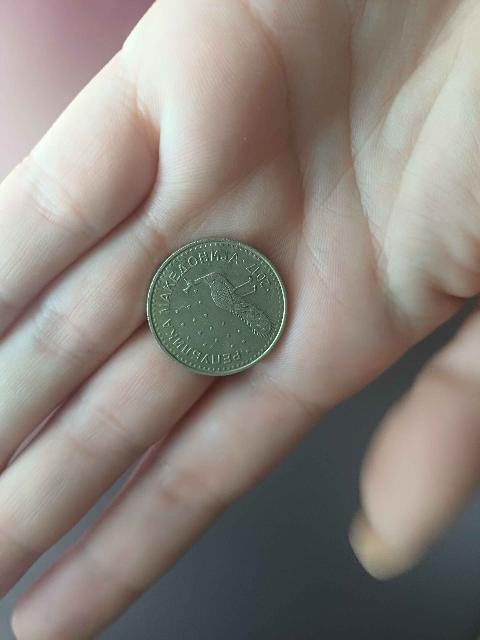10_coin: (147, 239, 286, 375)
